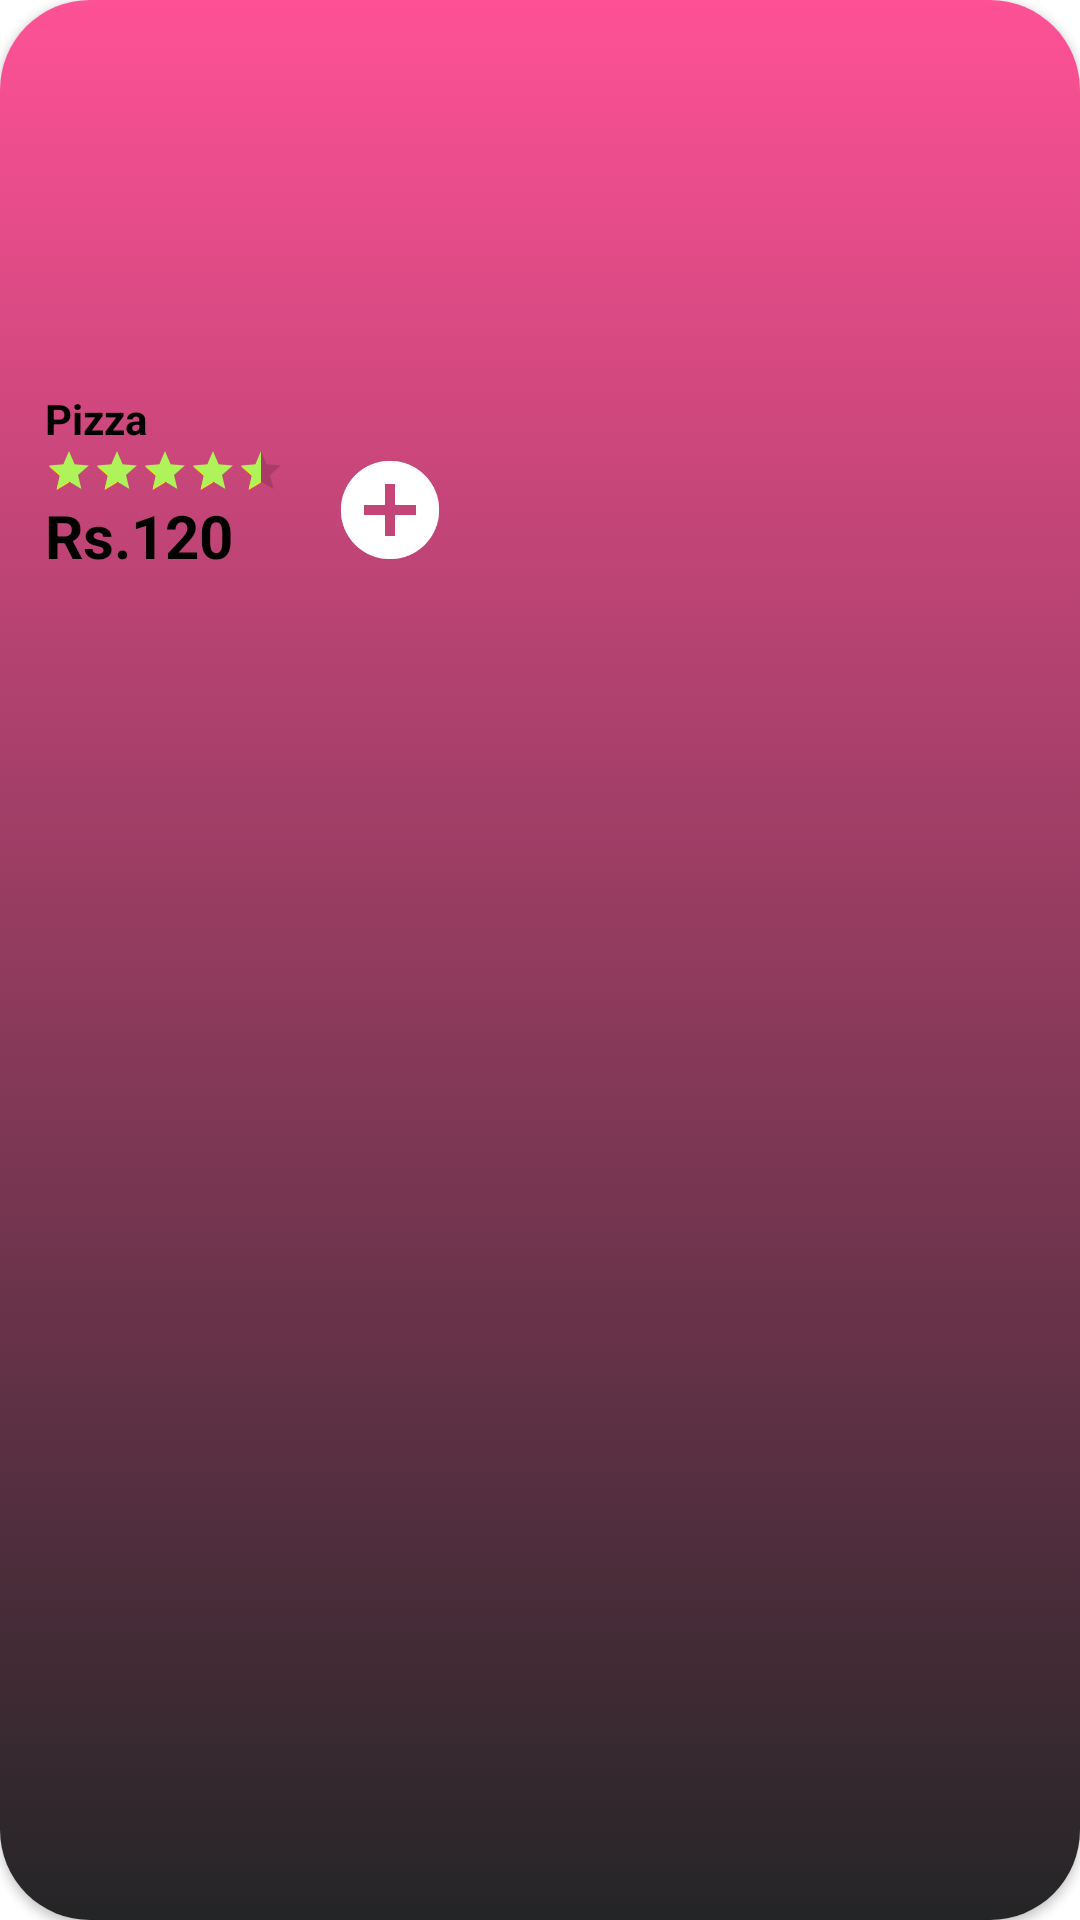

Locate icon controls on the screen. Image size 1080x1920, boxes as (x1, y1, x2, y2).
plus: (341, 461, 439, 559)
